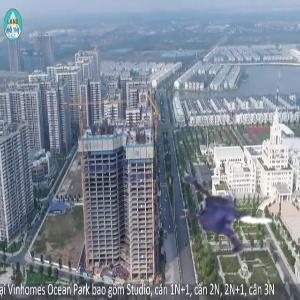drone: (163, 153, 291, 281)
